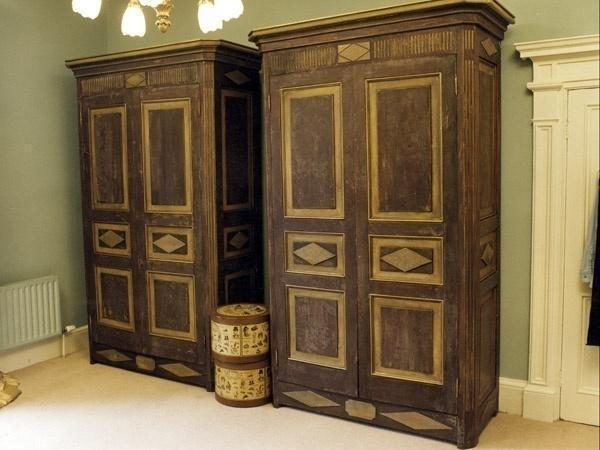Armario: (255, 26, 507, 440), (70, 36, 253, 381)
